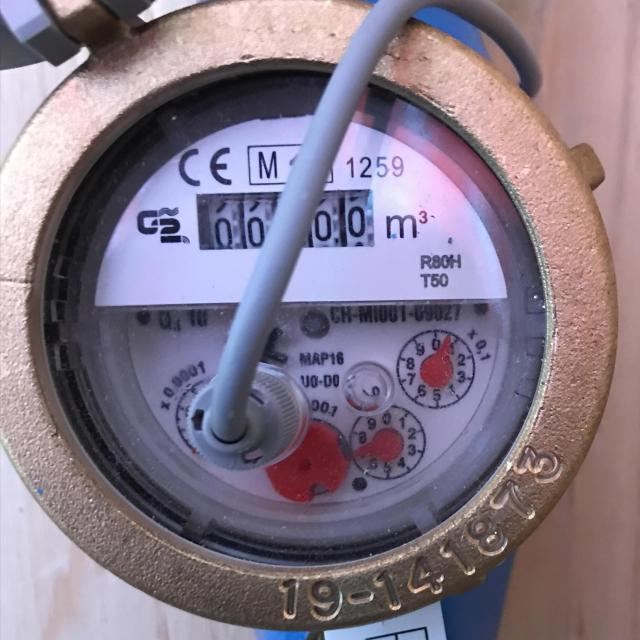gaz_meter: (48, 56, 549, 560)
indication: (200, 187, 378, 253)
